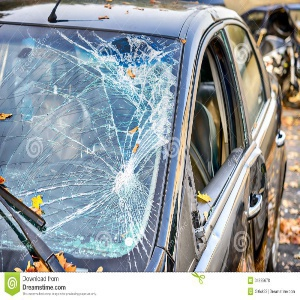front_windshield_glass: (54, 29, 168, 232)
